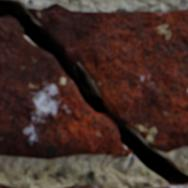brick: (63, 184, 107, 187), (152, 184, 187, 187), (0, 183, 15, 187)
broken_brick: (27, 3, 187, 151), (0, 17, 130, 158)
crack: (0, 0, 187, 185)
